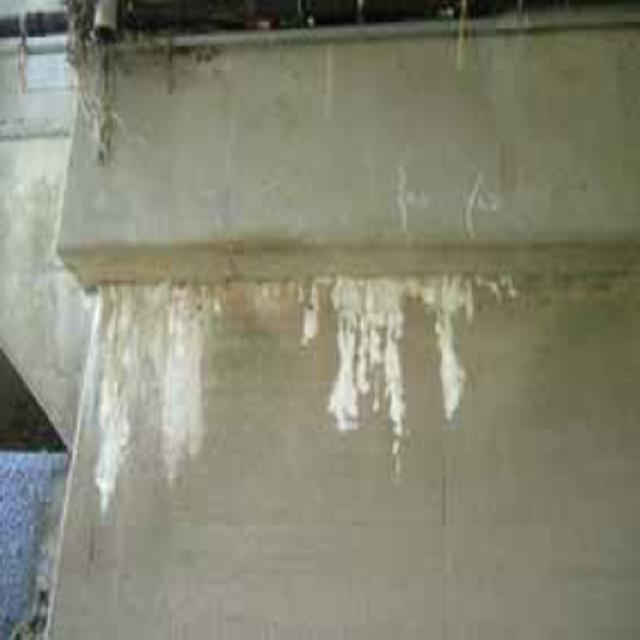freelime: (74, 268, 506, 488)
